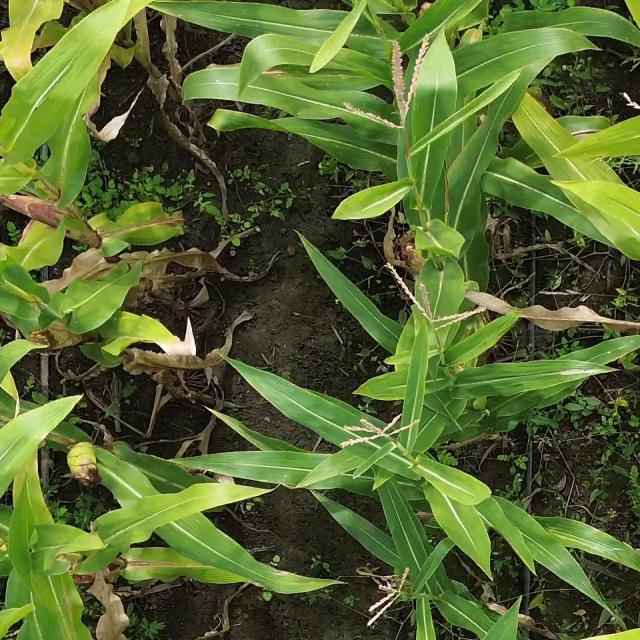gray-leaf-spot: (531, 516, 607, 557), (187, 514, 240, 570)
northern-leaf-blight: (114, 550, 196, 583), (550, 360, 619, 390)
southern-leaf-blight: (232, 13, 322, 70), (116, 312, 165, 347), (597, 15, 640, 47)
